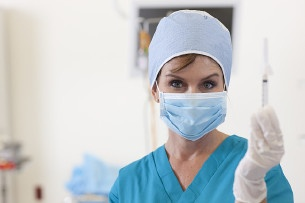Mask: (154, 68, 226, 140)
